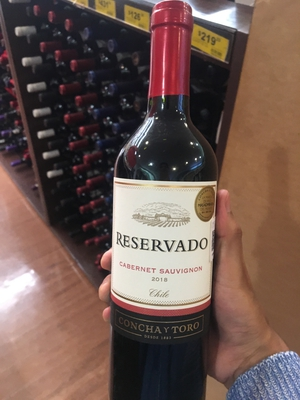reservado cabernet sauvignon: (109, 1, 215, 400)
